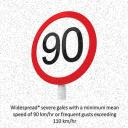speed_limit_90: (30, 10, 100, 88)
